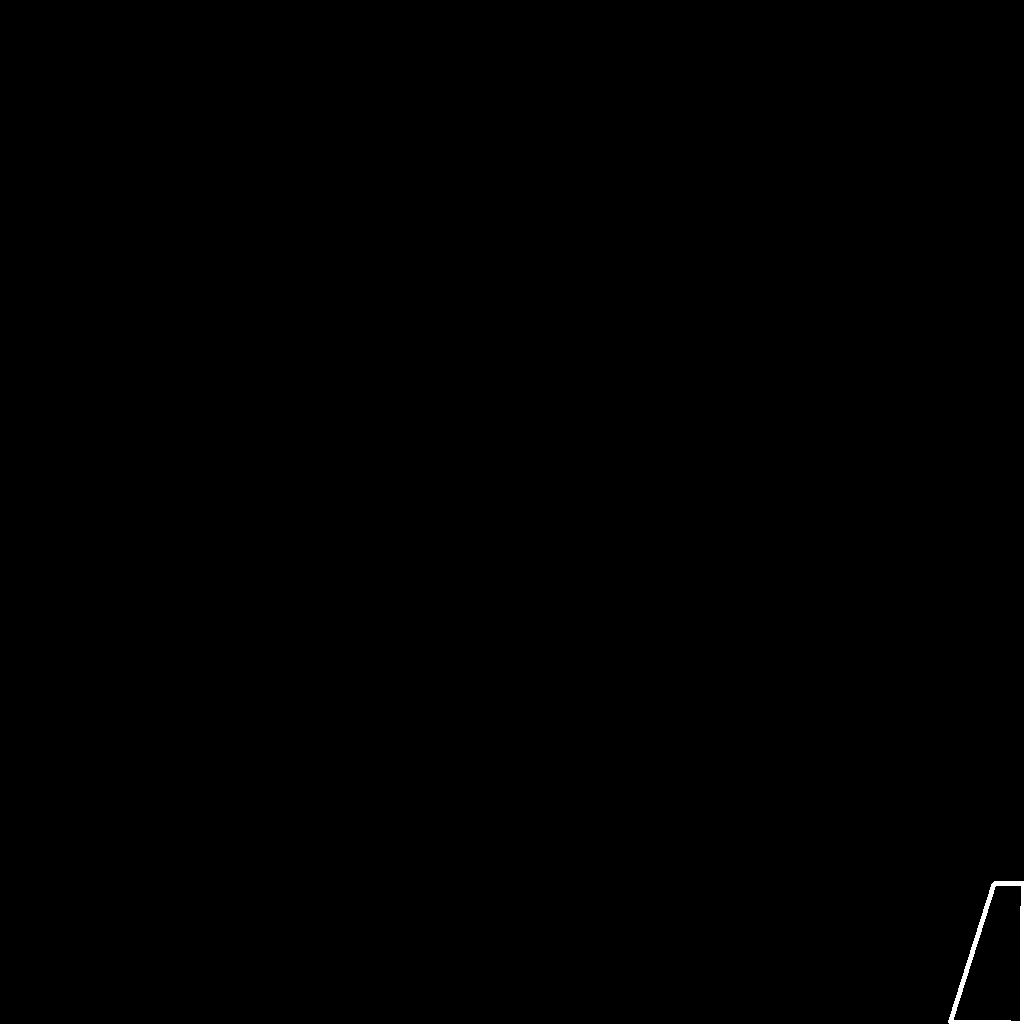building: (950, 883, 1024, 1024)
